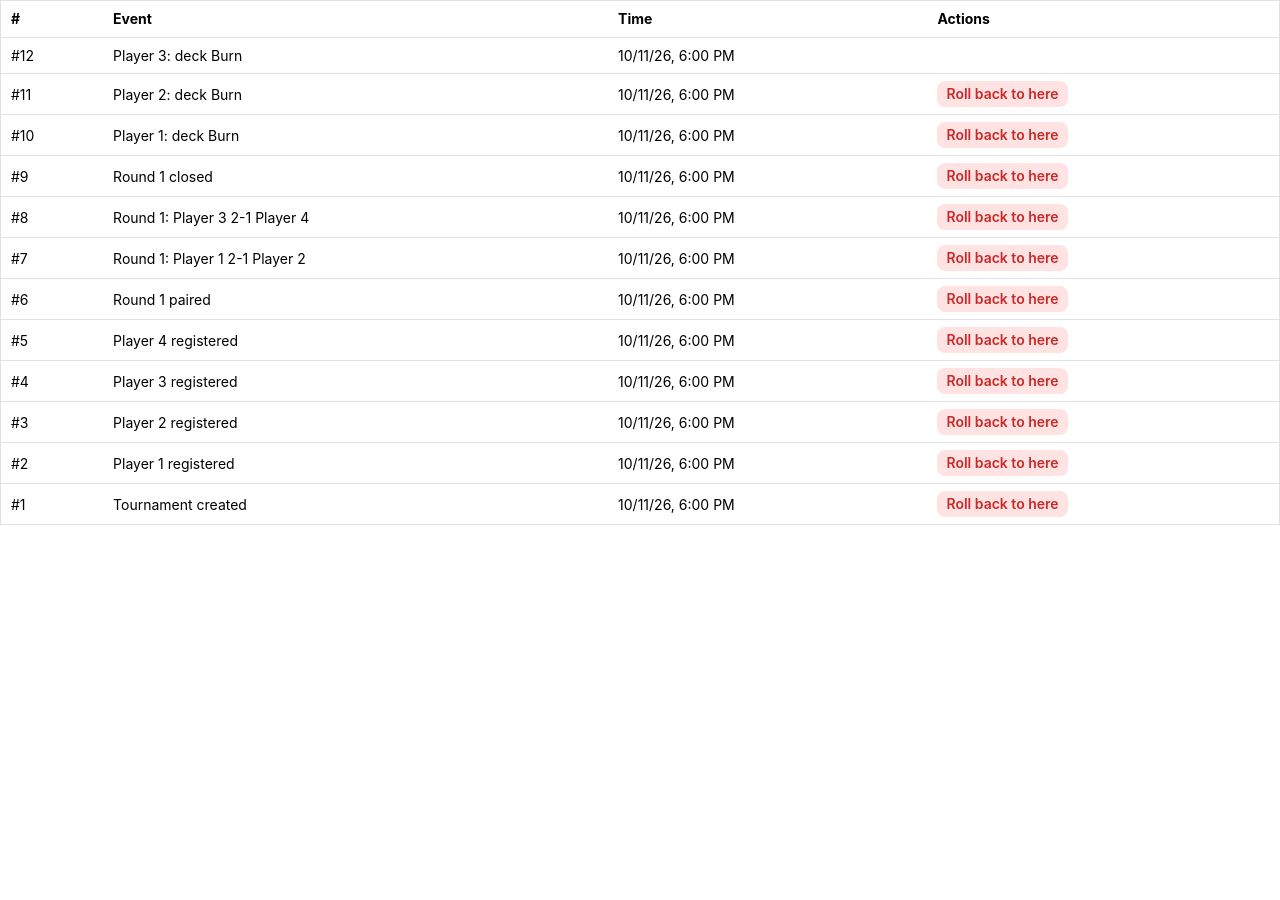
it: HistoryPanel › counts deck changes in the rollback preview
This screenshot has width=1280, height=900.
Click the button "Roll back to here" in the row of "#11": point(1002, 94) [937,81,1068,107]
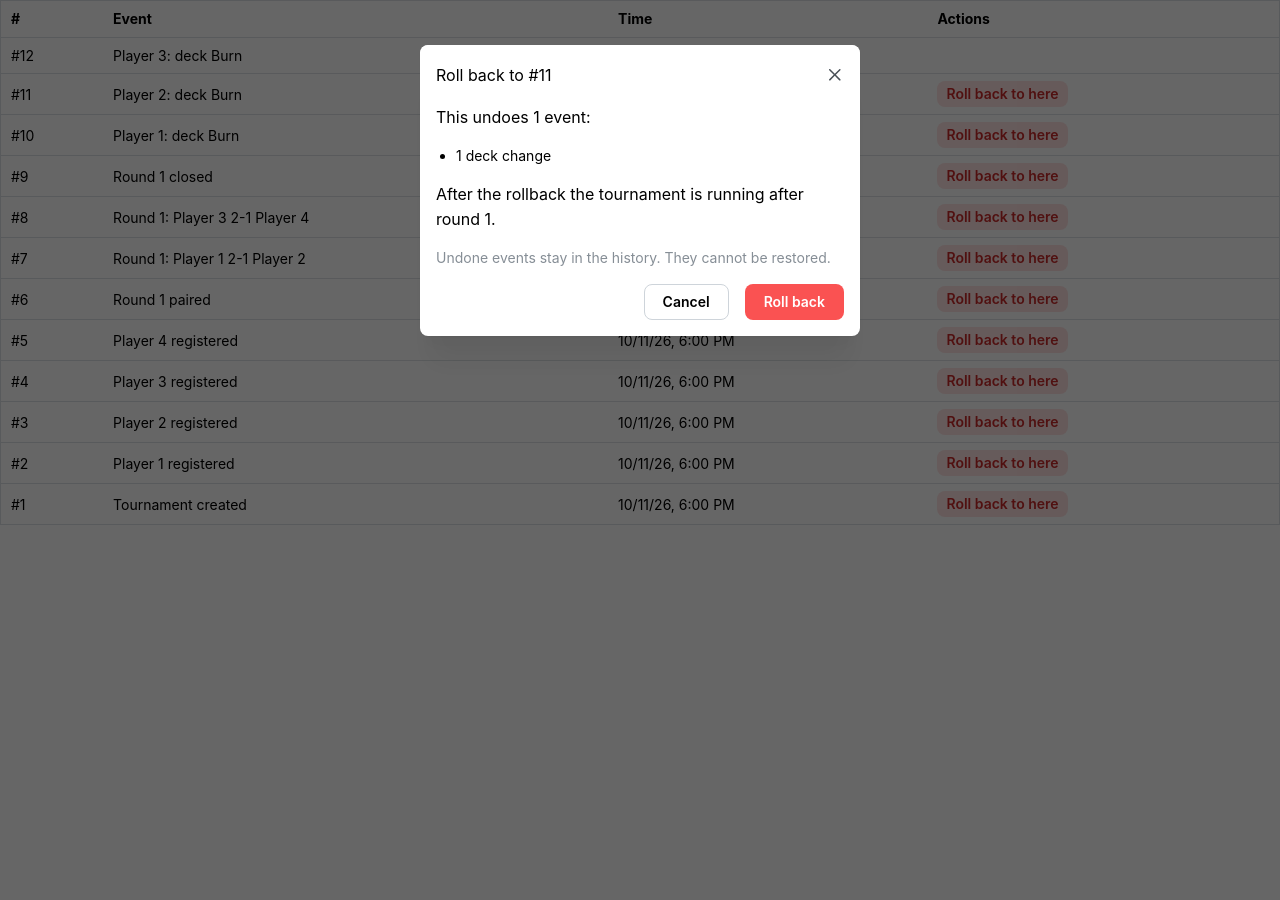
Expected: the text "1 deck change" is shown, [456,146,551,166]
Click the button "Cancel": point(686, 302) [644,284,729,320]
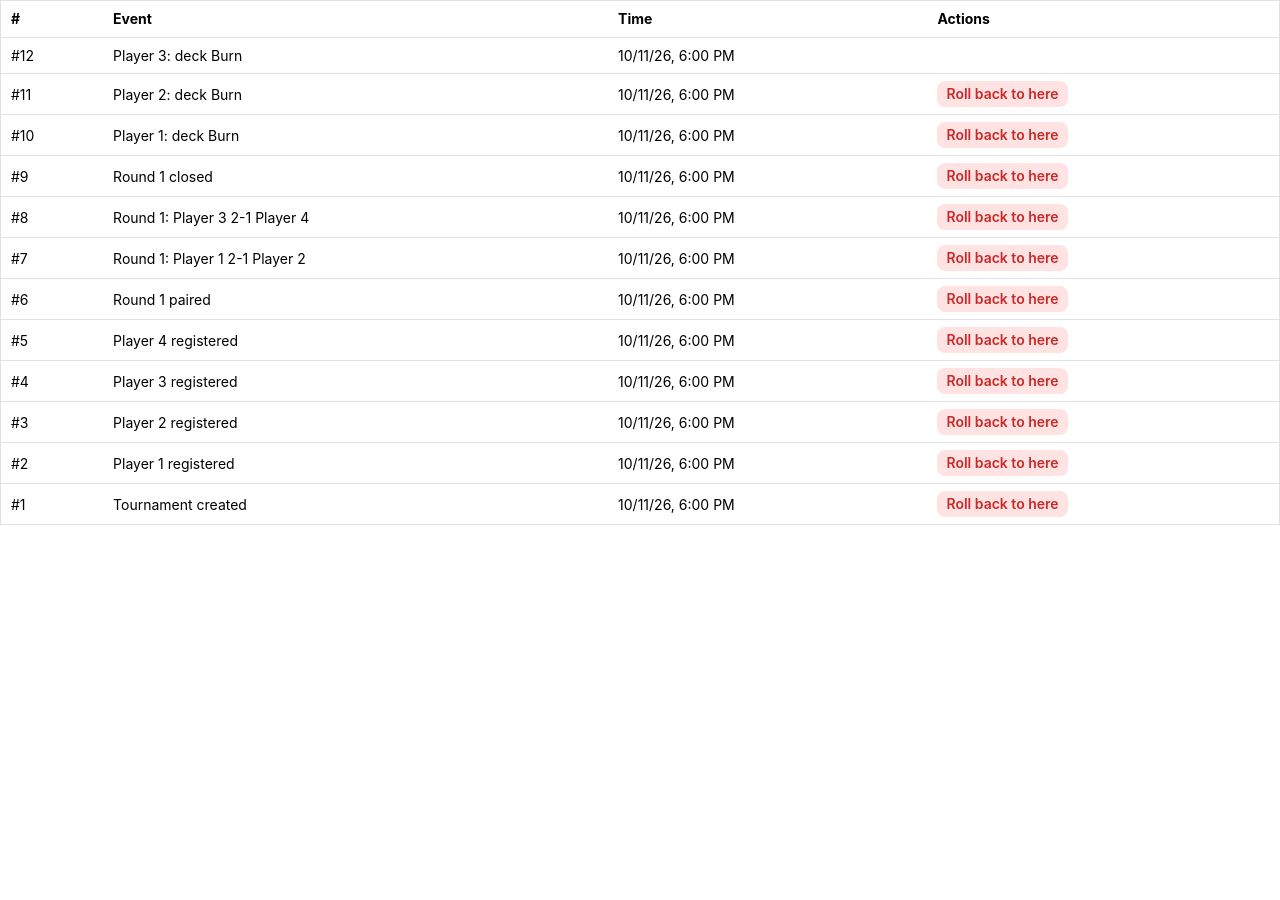
Click the button "Roll back to here" in the row of "#9": point(1002, 176) [937,163,1068,189]
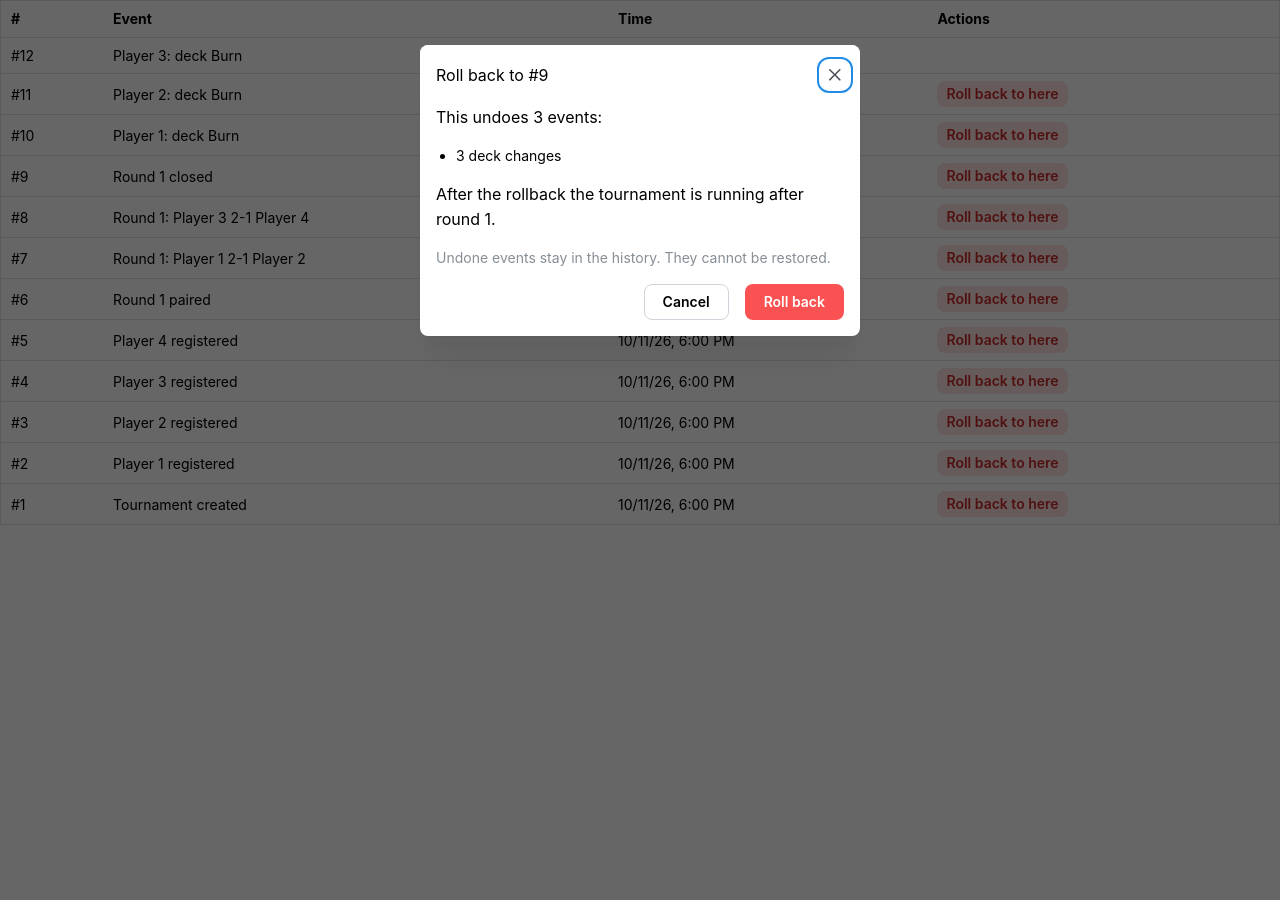
Expected: the text "3 deck changes" is shown, [456,146,562,166]
